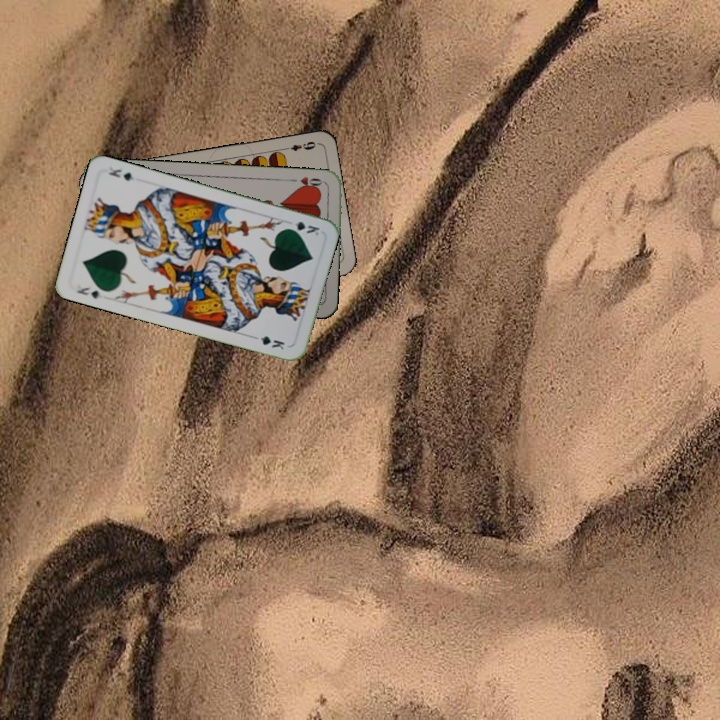E9: (280, 137, 318, 153)
GK: (282, 217, 322, 238), (73, 283, 105, 301)
HO: (287, 173, 327, 192)
